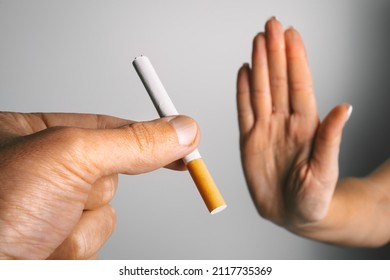cigarette: (130, 52, 229, 216)
